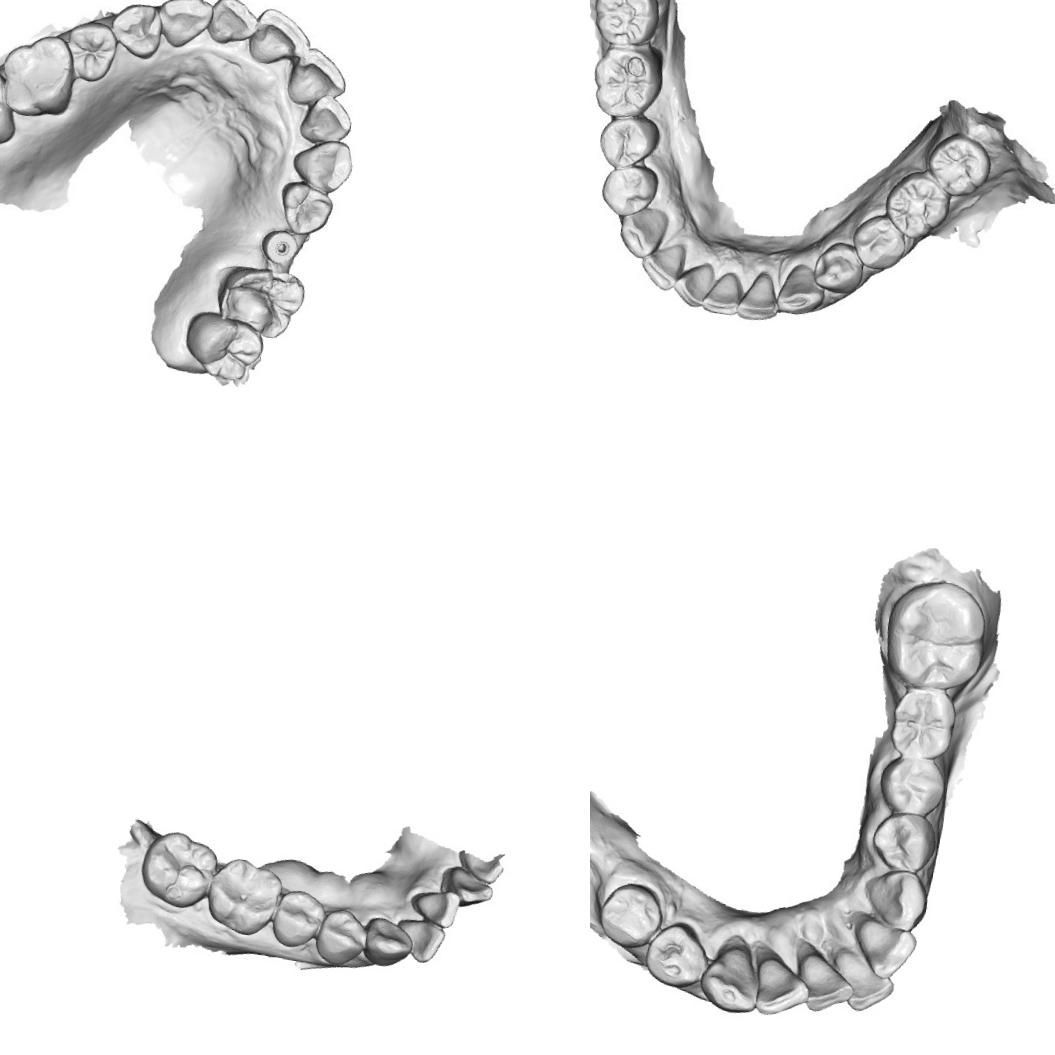canine: (856, 866, 932, 936), (697, 938, 764, 1016), (287, 132, 357, 196), (770, 260, 827, 320), (359, 913, 416, 971), (159, 0, 212, 52), (616, 204, 665, 258)
implant: (262, 229, 300, 269)
incisor: (827, 946, 898, 1016), (849, 917, 919, 983), (754, 952, 814, 1022), (796, 950, 856, 1018), (250, 8, 311, 64), (286, 51, 347, 104), (390, 915, 448, 966), (640, 240, 688, 294), (438, 864, 492, 912), (667, 259, 715, 311), (408, 884, 461, 931), (737, 267, 779, 324), (211, 0, 263, 46), (302, 98, 352, 142), (702, 268, 742, 319)
molar: (878, 574, 996, 698), (136, 826, 222, 914), (202, 853, 286, 940), (184, 313, 270, 391), (221, 264, 306, 338), (884, 680, 960, 761), (0, 32, 75, 114), (590, 39, 666, 115), (925, 132, 991, 198), (887, 174, 948, 236), (593, 0, 656, 46), (0, 68, 20, 148)
premolar: (642, 918, 714, 994), (595, 878, 666, 951), (876, 750, 950, 819), (868, 810, 938, 877), (268, 886, 328, 953), (312, 905, 372, 969), (66, 20, 120, 87), (110, 0, 166, 64), (279, 180, 335, 234), (599, 114, 653, 168), (812, 243, 867, 296), (603, 165, 654, 212), (854, 220, 904, 266)
